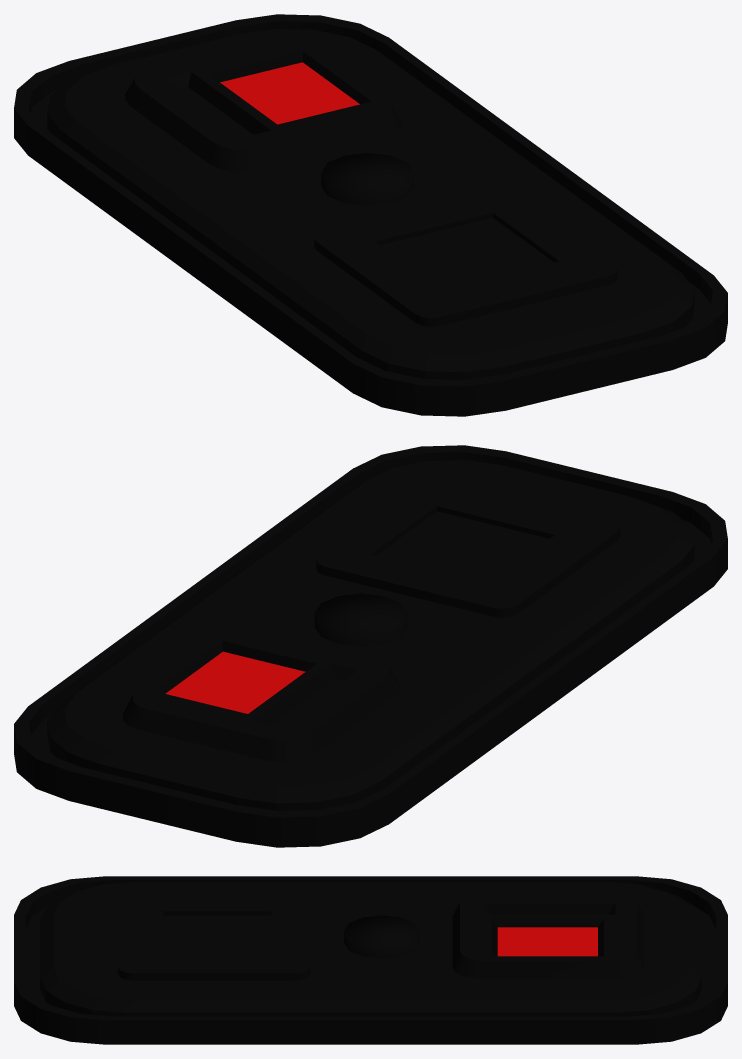
Rendered from SM_Coinslot_Single.fbx.
The picture shows the model from 3 angles, top to bottom: view 1: azimuth 30°, elevation 25°; view 2: azimuth 150°, elevation 25°; view 3: azimuth 270°, elevation 25°; orthographic projection. The views are drawn at different scales.
Visible parts, largest first — view 1: SM_CoinPanel_Single; view 2: SM_CoinPanel_Single; view 3: SM_CoinPanel_Single.
Boxes of the visible parts, box(x1,y1,x2,y2) form: SM_CoinPanel_Single: box(14, 14, 727, 416); SM_CoinPanel_Single: box(14, 445, 727, 847); SM_CoinPanel_Single: box(14, 876, 727, 1044).
Size of the model in its own units: 118 by 17.71 by 248.
